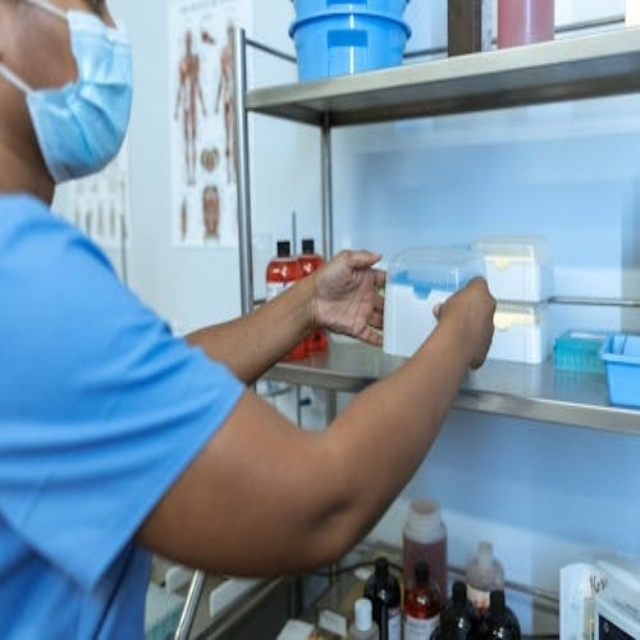Mascara: (5, 2, 134, 185)
Sin_guantes: (309, 250, 389, 348), (427, 273, 497, 374)
